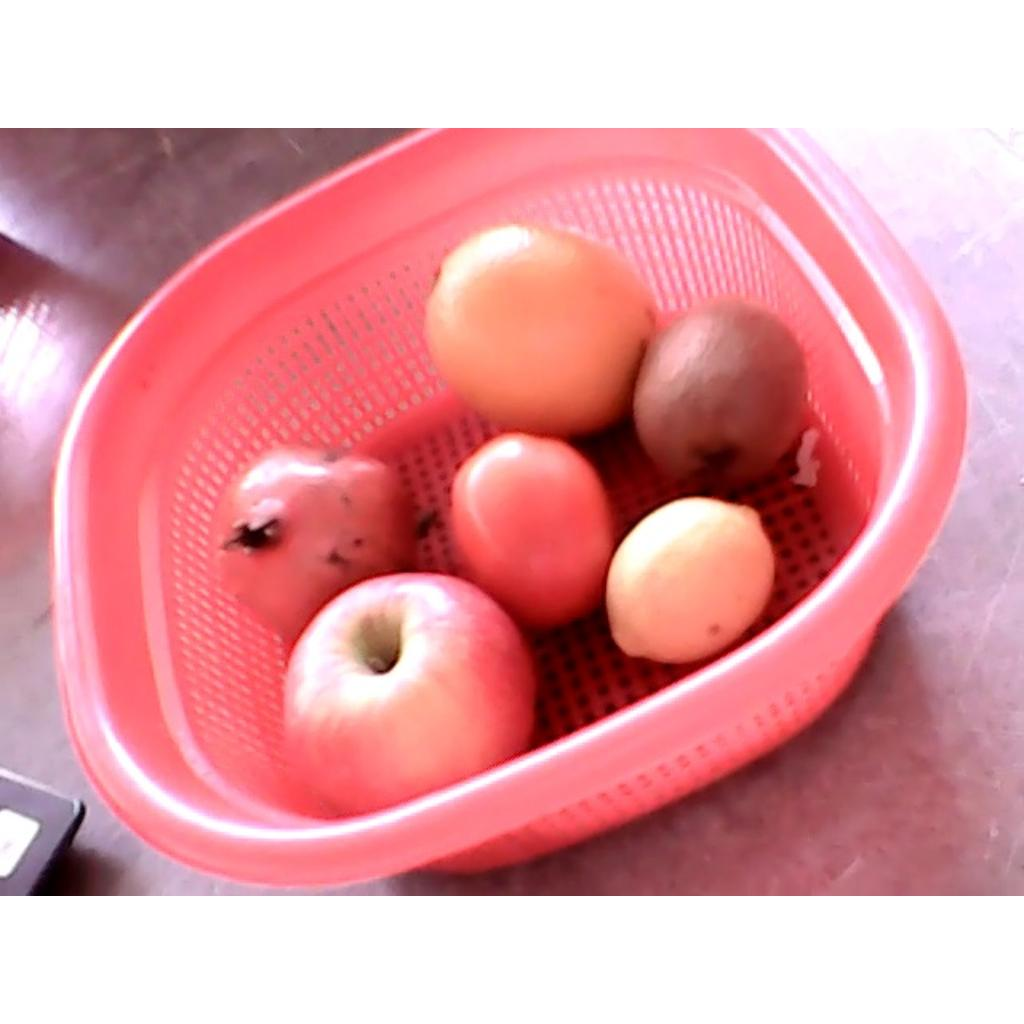apple: (281, 572, 546, 815)
kiwi: (632, 297, 809, 491)
lemon: (606, 496, 774, 663)
orange: (422, 223, 659, 435)
pomegranate: (208, 444, 417, 639)
tomato: (448, 432, 614, 626)
